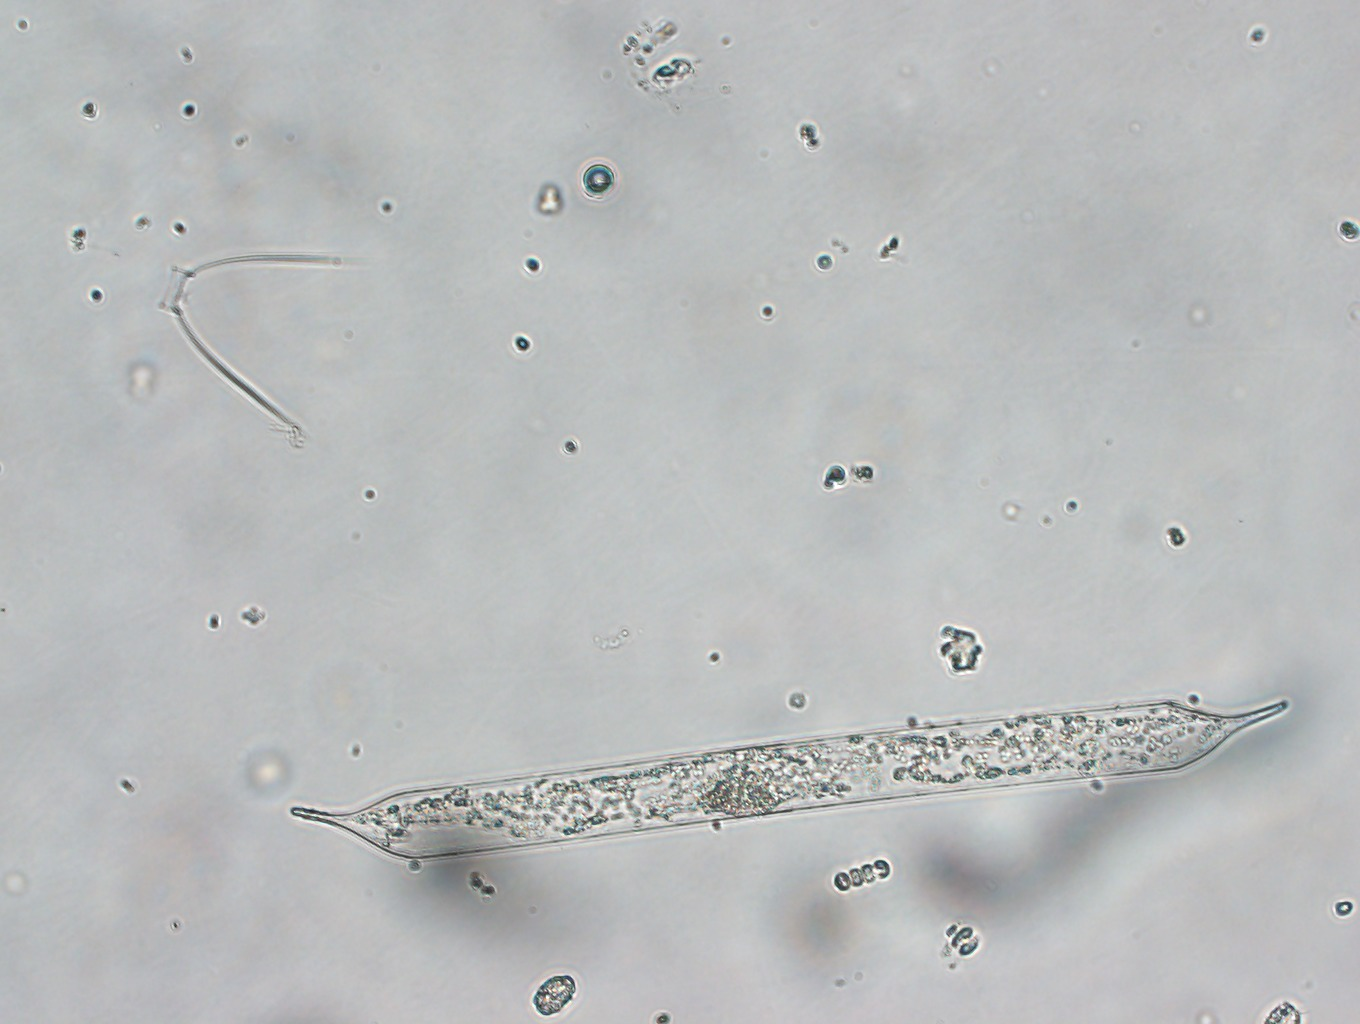rhizosolenia: (268, 693, 1308, 861)
